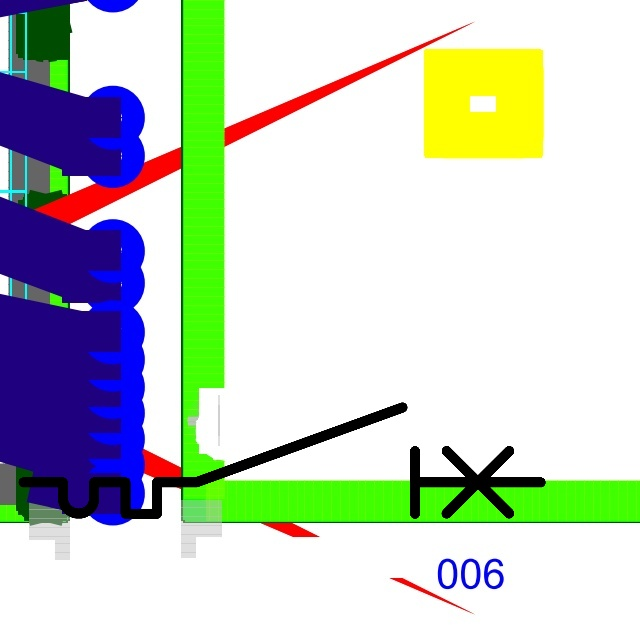interruptor_termomagnetico: (10, 394, 553, 527)
